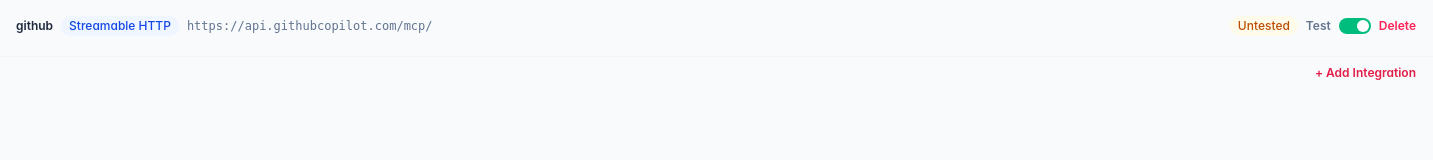
Test button › flips badge to "Failed" red on ok:false
The image size is (1433, 160).
Click the button with test id "test-button" at (1318, 26), box [1306,18,1331,34]
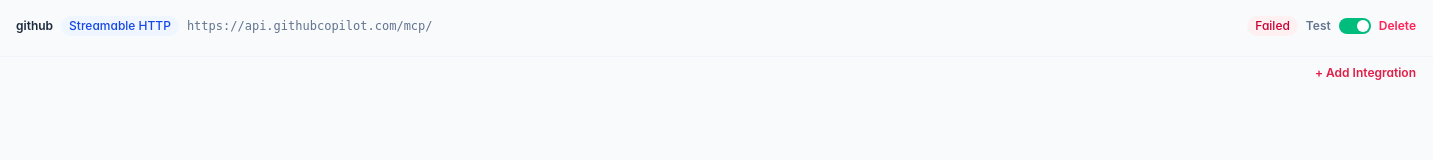
Check: the text with test id "status-badge" reads "Failed", box [1255,18,1290,33]
